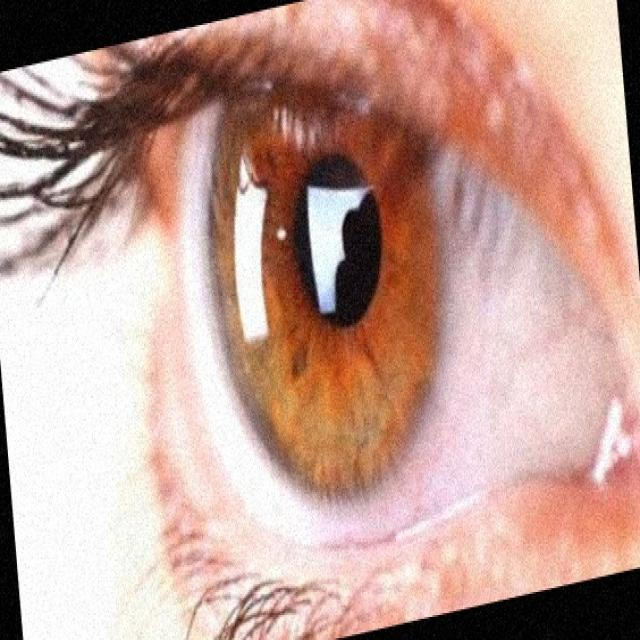Healthy-Eye: (76, 43, 584, 583)
